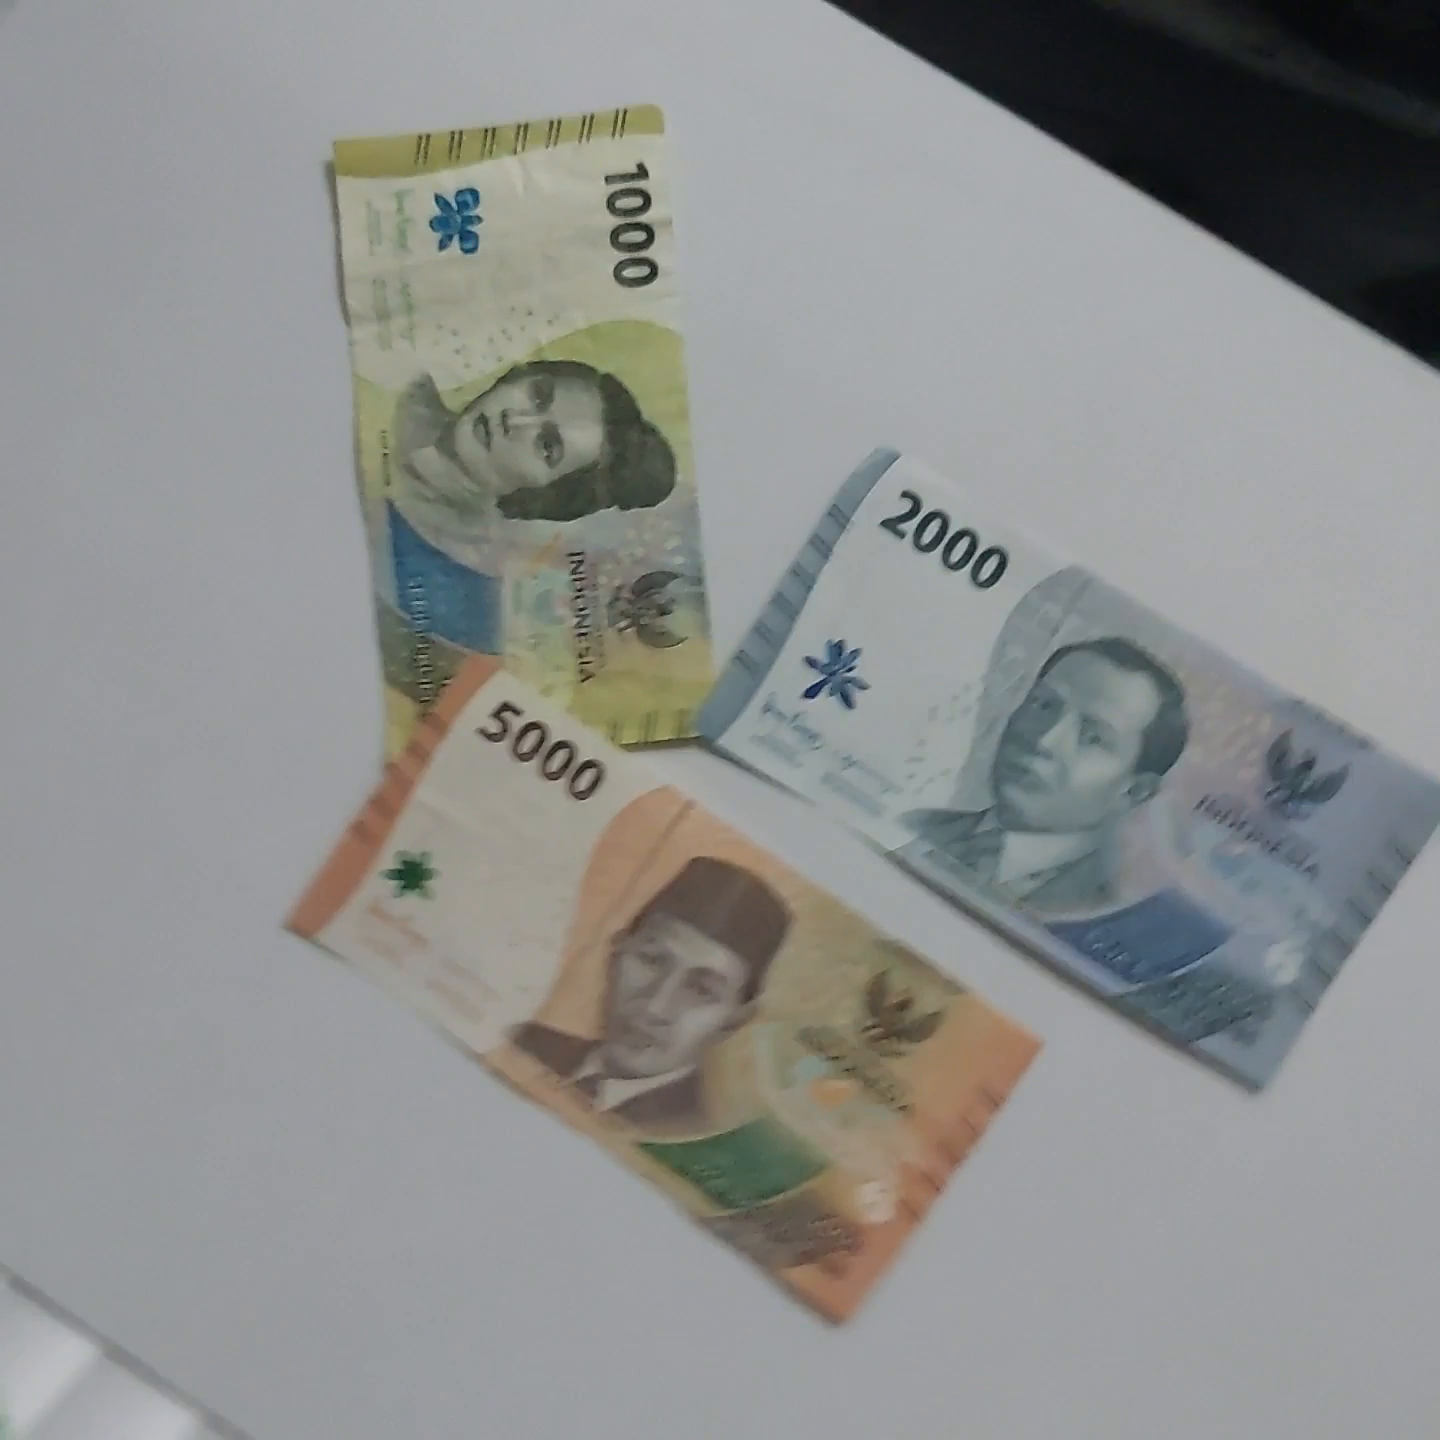1k: (297, 63, 745, 799)
2k: (694, 368, 1440, 1150)
5k: (272, 626, 1056, 1353)
